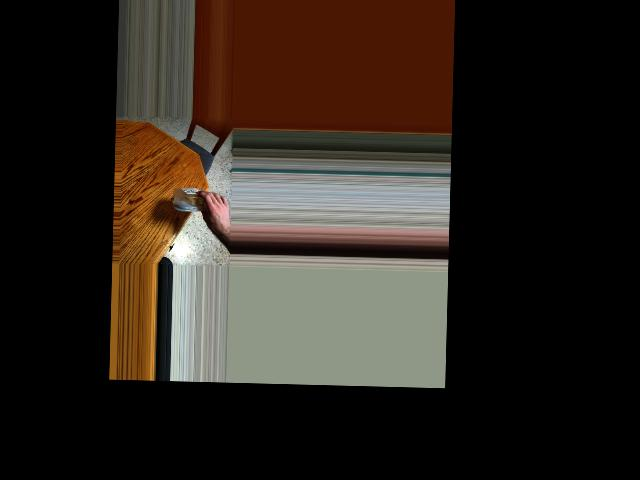cheese: (174, 180, 220, 220)
